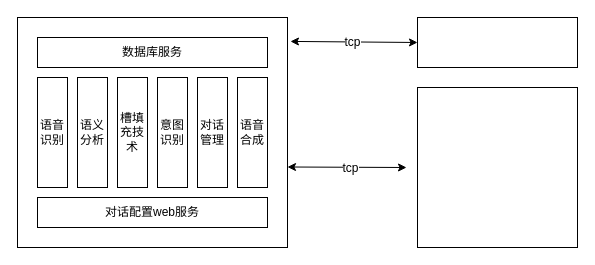
Image size: 595x265. Some labels were removed from this diagram. Each missing label, with the centre of its shape:
"企业数据库" belongs at point 497,42.
"智能门卫机器人其他模块" belongs at point 497,167.
